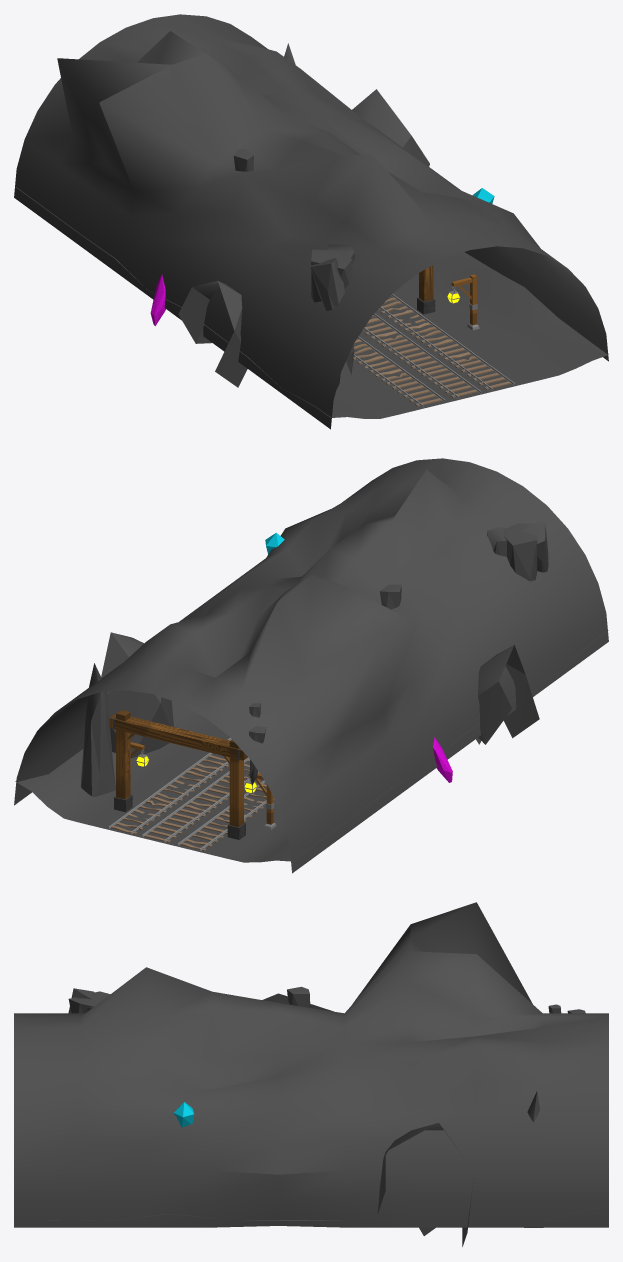
Rendered from Modulo 1.fbx.
3 renders of one model, top to bottom at view 1: azimuth 30°, elevation 25°; view 2: azimuth 150°, elevation 25°; view 3: azimuth 270°, elevation 25°, orthographic. The views are drawn at different scales.
Parts seen in each view (by area): view 1: Cube.036; view 2: Cube.036; view 3: Cube.036.
Boxes of the visible parts, bbox=[...] form: Cube.036: bbox=[14, 14, 608, 429]; Cube.036: bbox=[14, 458, 608, 873]; Cube.036: bbox=[14, 902, 608, 1246].
Size of the model in its own units: 2820 by 1928 by 4761.
